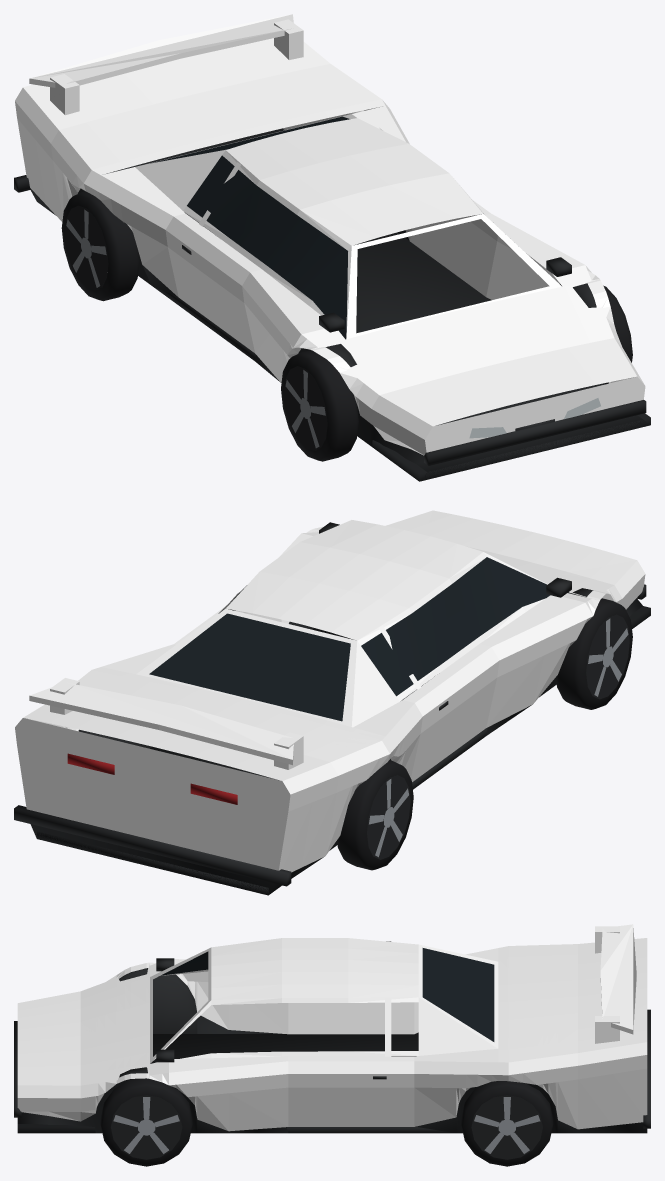
Rendered from kestrin_fragmento.glb.
The picture shows the model from 3 angles, top to bottom: view 1: azimuth 30°, elevation 25°; view 2: azimuth 150°, elevation 25°; view 3: azimuth 270°, elevation 25°; orthographic projection. The views are drawn at different scales.
Visible parts, largest first — view 1: Body_Paint, Body_Details, Mount_FrontLeft_Wheel_Details, Mount_RearLeft_Wheel_Details, Mount_FrontRight_Wheel_Details; view 2: Body_Paint, Body_Details, Mount_RearLeft_Wheel_Details, Mount_FrontLeft_Wheel_Details; view 3: Body_Paint, Body_Details, Mount_FrontRight_Wheel_Details, Mount_RearRight_Wheel_Details.
Boxes of the visible parts, x1,y1,x2,y2 form: Body_Paint: (15,14,645,455); Body_Details: (14,116,650,481); Mount_FrontLeft_Wheel_Details: (281,350,358,461); Mount_RearLeft_Wheel_Details: (61,191,139,301); Mount_FrontRight_Wheel_Details: (603,285,632,362); Body_Paint: (15,510,645,872); Body_Details: (14,522,650,895); Mount_RearLeft_Wheel_Details: (337,760,413,870); Mount_FrontLeft_Wheel_Details: (556,598,632,709); Body_Paint: (17,924,647,1131); Body_Details: (14,948,650,1133); Mount_FrontRight_Wheel_Details: (100,1078,192,1166); Mount_RearRight_Wheel_Details: (461,1081,553,1166).
Bounding box in the file's own units: 2.09 × 1.13 × 4.57.
2 materials, 1 textured.
